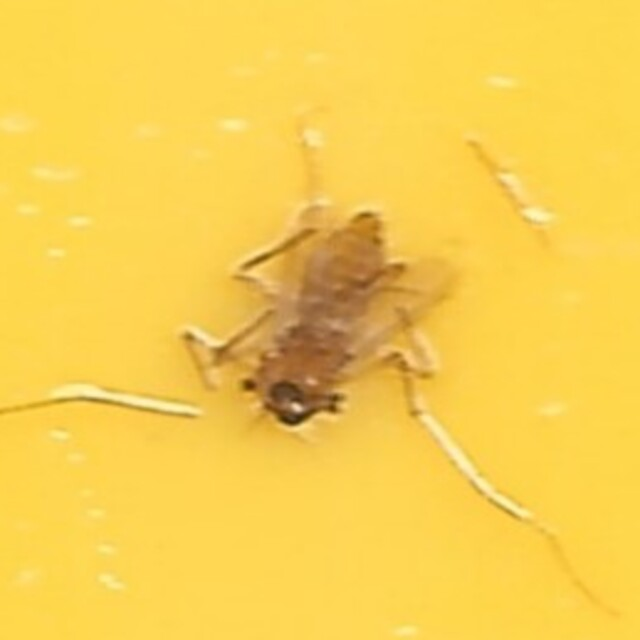Nematocera: (247, 208, 393, 432)
